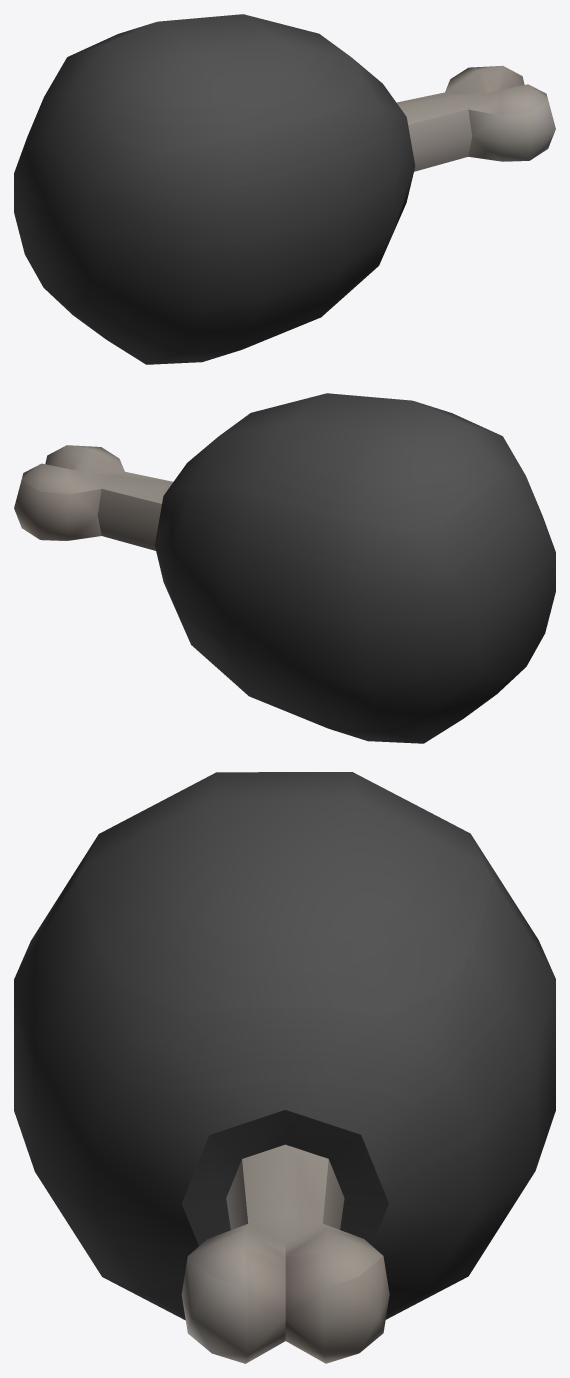
Rendered from food-ingredient-ham-trash.glb.
3 views of the same model, one above another, from view 1: azimuth 30°, elevation 25°; view 2: azimuth 150°, elevation 25°; view 3: azimuth 270°, elevation 25° (orthographic). The views are drawn at different scales.
Parts seen in each view (by area): view 1: food_ingredient_ham_trash; view 2: food_ingredient_ham_trash; view 3: food_ingredient_ham_trash.
Boxes of the visible parts, x1,y1,x2,y2 form: food_ingredient_ham_trash: (14, 14, 555, 364); food_ingredient_ham_trash: (14, 393, 555, 743); food_ingredient_ham_trash: (14, 772, 555, 1363).
Bounding box in the file's own units: 1.39 × 0.83 × 0.83.
Materials: 1 (1 with a texture image).
